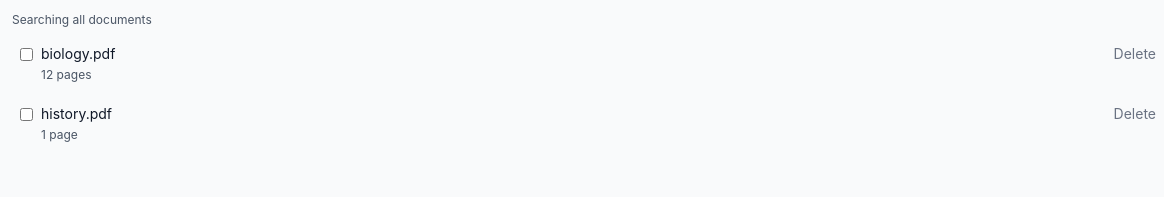
Test: DocumentList › does not delete when the confirm is cancelled
This screenshot has width=1164, height=197.
Click the button with aria-label "Delete biology.pdf" at {"x": 1135, "y": 54}, box [1114, 44, 1156, 64]
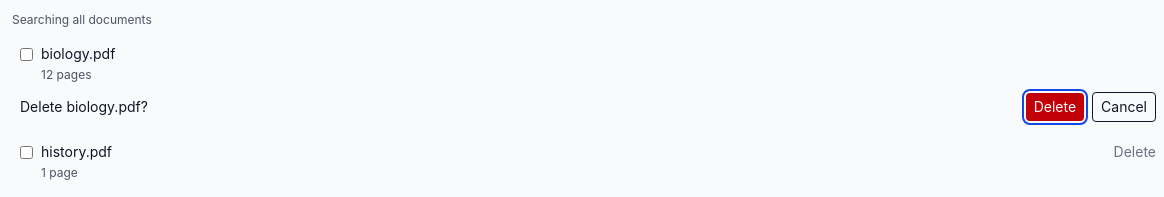
Click the button "Cancel" at {"x": 1124, "y": 107}, box [1092, 92, 1156, 122]
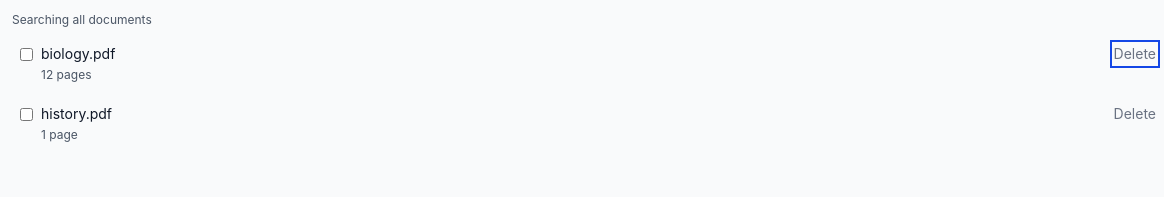
Check: the text "Delete biology.pdf?" is gone
